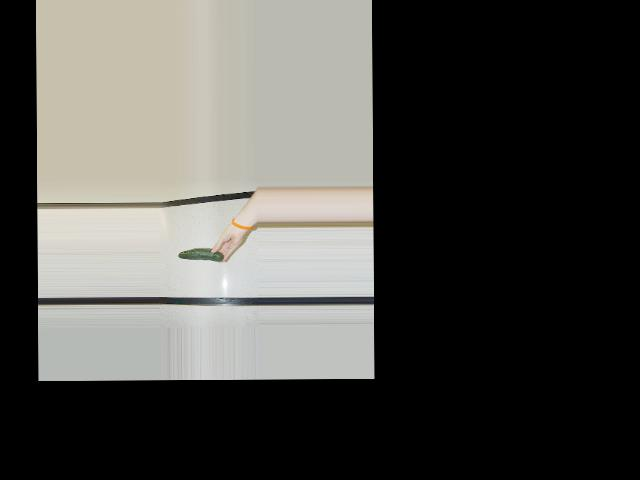cucumber: (177, 248, 224, 262)
